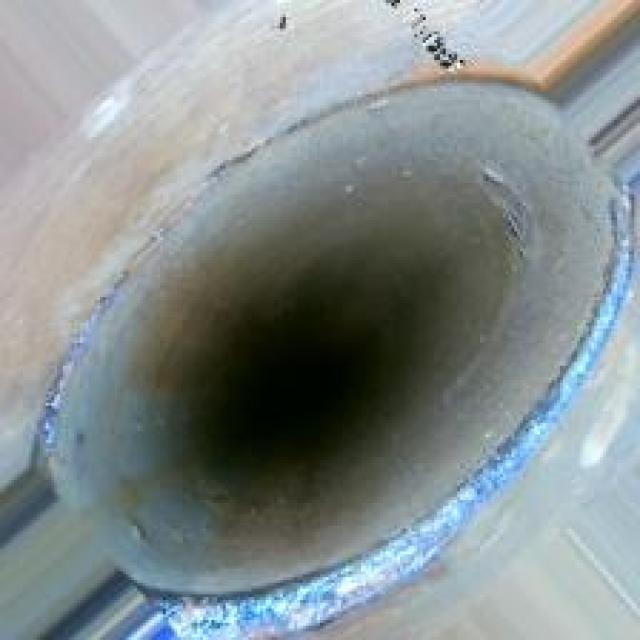joint: (74, 83, 620, 620)
